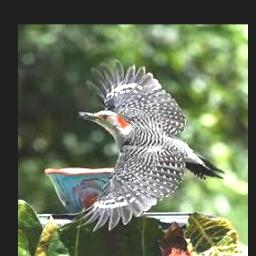Woodpecker: (59, 59, 225, 232)
